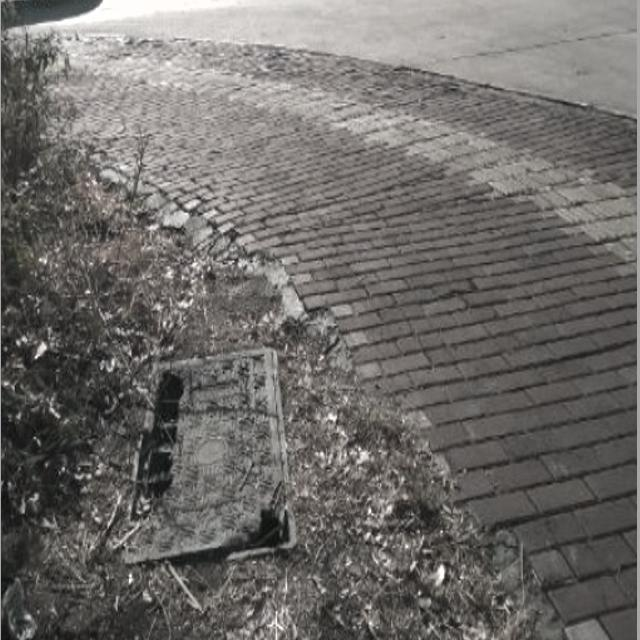broke: (122, 346, 298, 563)
